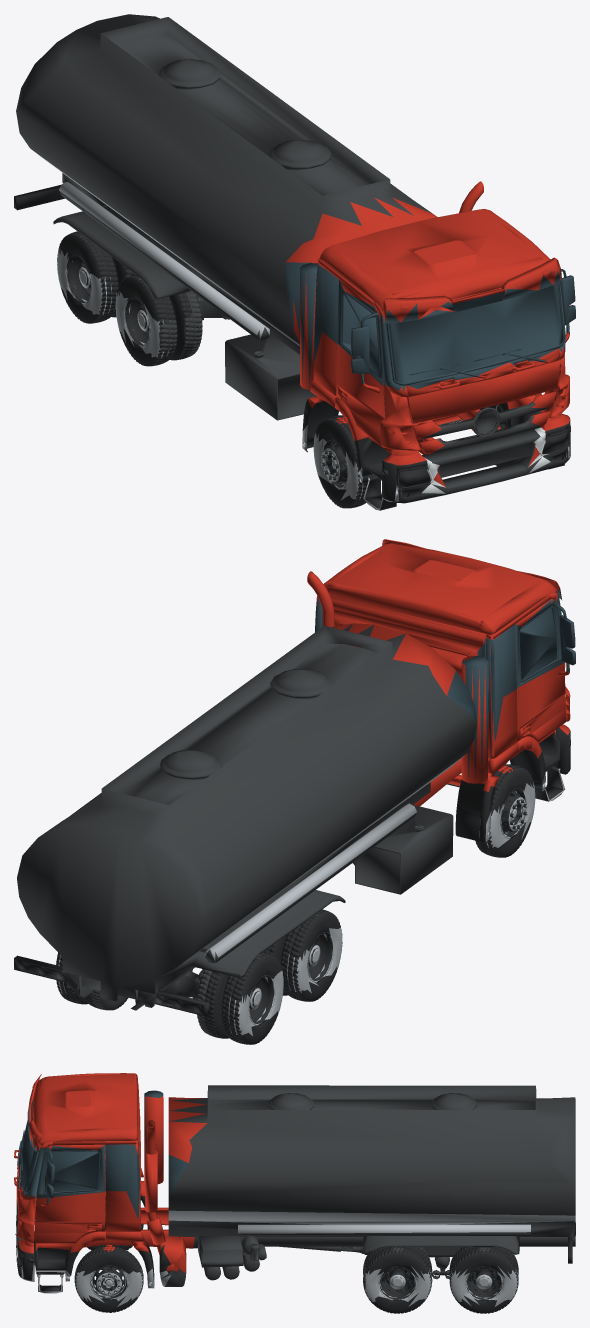
The model's file is tanker-truck-repaired.glb.
3 renders of one model, top to bottom at view 1: azimuth 30°, elevation 25°; view 2: azimuth 150°, elevation 25°; view 3: azimuth 270°, elevation 25°, orthographic. The views are drawn at different scales.
Parts seen in each view (by area): view 1: truck; view 2: truck; view 3: truck.
Part boxes in pixels (<box>): truck: <box>14,14,575,510</box>; truck: <box>14,539,575,1044</box>; truck: <box>14,1073,575,1313</box>.
Bounding box in the file's own units: 2.98 × 3.33 × 8.77.
